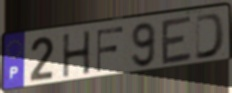2: (28, 35, 57, 85)
9: (130, 21, 158, 69)
D: (194, 11, 227, 62)
E: (160, 14, 193, 67)
F: (95, 25, 125, 75)
H: (61, 29, 92, 80)
